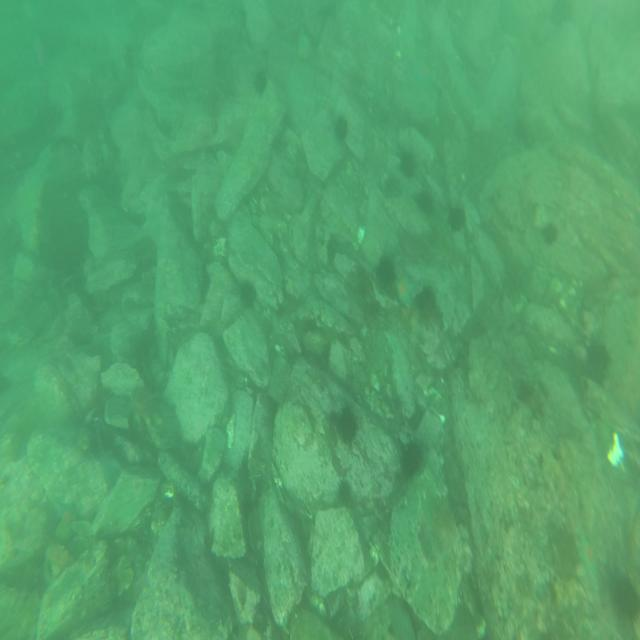echinus: (588, 336, 612, 383), (413, 279, 438, 321), (374, 252, 396, 290), (401, 438, 422, 476), (336, 406, 356, 444), (448, 199, 466, 233), (240, 278, 257, 310), (398, 146, 416, 176), (415, 187, 432, 215), (252, 66, 268, 94), (334, 114, 348, 143), (544, 222, 559, 241)
starfish: (394, 272, 416, 308)
